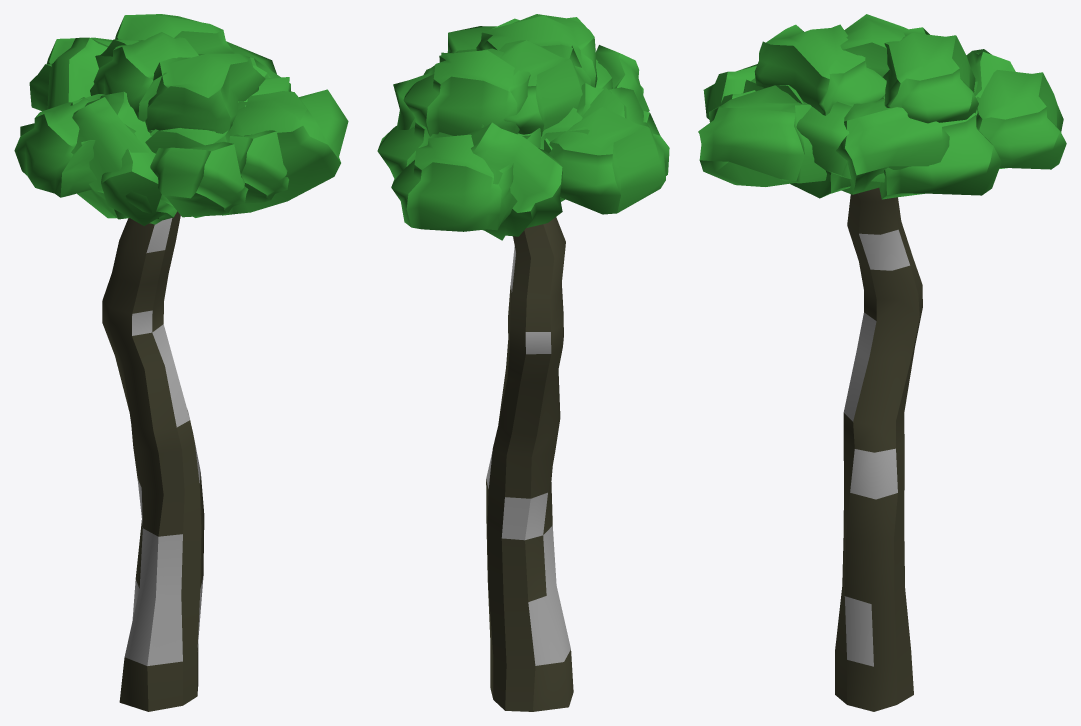
The model's file is TreeForTesting.fbx.
3 renders of one model, left to right at view 1: azimuth 30°, elevation 25°; view 2: azimuth 150°, elevation 25°; view 3: azimuth 270°, elevation 25°, orthographic. The views are drawn at different scales.
Parts seen in each view (by area): view 1: pCube12; view 2: pCube12; view 3: pCube12.
Part boxes in pixels (<box>): pCube12: <box>14,14,348,711</box>; pCube12: <box>377,14,669,711</box>; pCube12: <box>698,14,1066,711</box>.
Bounding box in the file's own units: 12.32 × 29.71 × 14.79.
